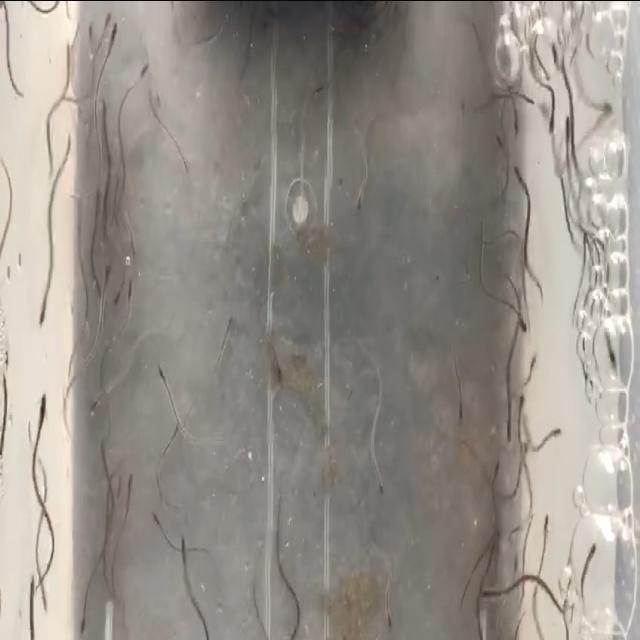active_glass_eel: (32, 381, 51, 444), (95, 4, 114, 66), (117, 468, 139, 516), (122, 208, 144, 256), (23, 566, 42, 614), (97, 252, 115, 302), (128, 56, 154, 90), (104, 8, 120, 62), (492, 122, 508, 176), (602, 324, 618, 378), (36, 575, 52, 625), (38, 290, 52, 345), (86, 2, 100, 54), (150, 76, 168, 116), (308, 70, 332, 100), (581, 538, 601, 574), (353, 175, 369, 219), (506, 552, 524, 590), (123, 270, 137, 318), (177, 144, 194, 182), (74, 601, 90, 639), (554, 110, 570, 148), (86, 390, 106, 420), (514, 154, 526, 204), (546, 417, 564, 450), (157, 358, 171, 398), (149, 500, 163, 540), (451, 392, 466, 429), (524, 347, 539, 384), (478, 581, 500, 606), (222, 312, 238, 346), (513, 301, 527, 339), (176, 531, 188, 573), (504, 406, 518, 442), (539, 508, 553, 544), (595, 92, 615, 117), (487, 460, 502, 492), (546, 96, 558, 136), (168, 416, 184, 444), (487, 534, 501, 566), (384, 598, 396, 634), (510, 94, 520, 132), (375, 461, 385, 494)
